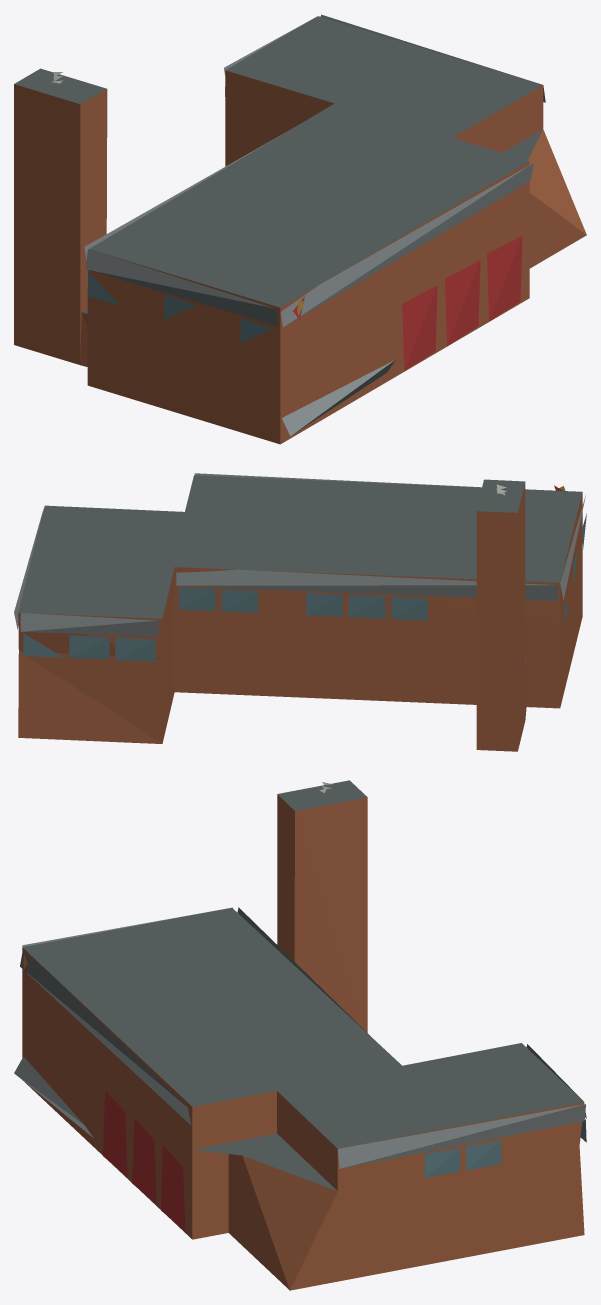
File: fire-station-zebra.lod2.glb
3 renders of one model, top to bottom at view 1: azimuth 30°, elevation 25°; view 2: azimuth 150°, elevation 25°; view 3: azimuth 270°, elevation 25°, orthographic. The views are drawn at different scales.
Parts seen in each view (by area): view 1: lod2; view 2: lod2; view 3: lod2.
Boxes of the visible parts, x1,y1,x2,y2 form: lod2: (14,14,586,444); lod2: (14,473,586,751); lod2: (14,780,586,1290).
Size of the model in its own units: 37.83 by 18.25 by 35.65.
